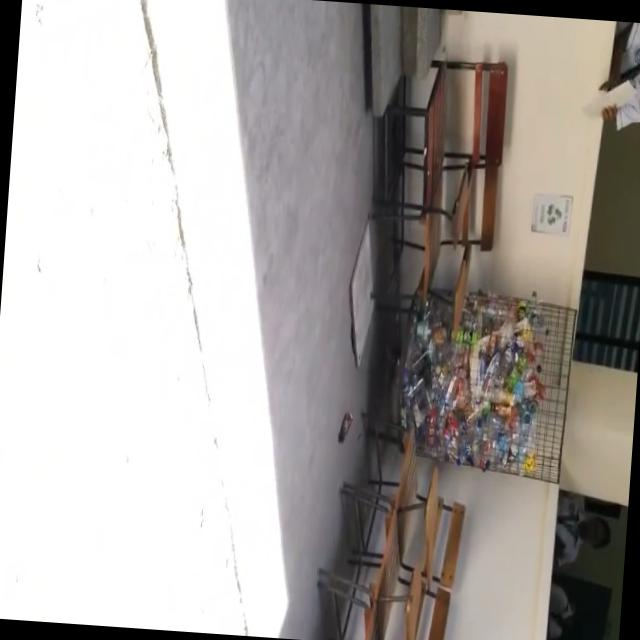Bottle: (337, 410, 353, 442)
